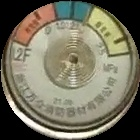green: (54, 2, 92, 25)
needle: (80, 6, 91, 37)
red: (13, 5, 58, 45)
yellow: (88, 8, 135, 56)
